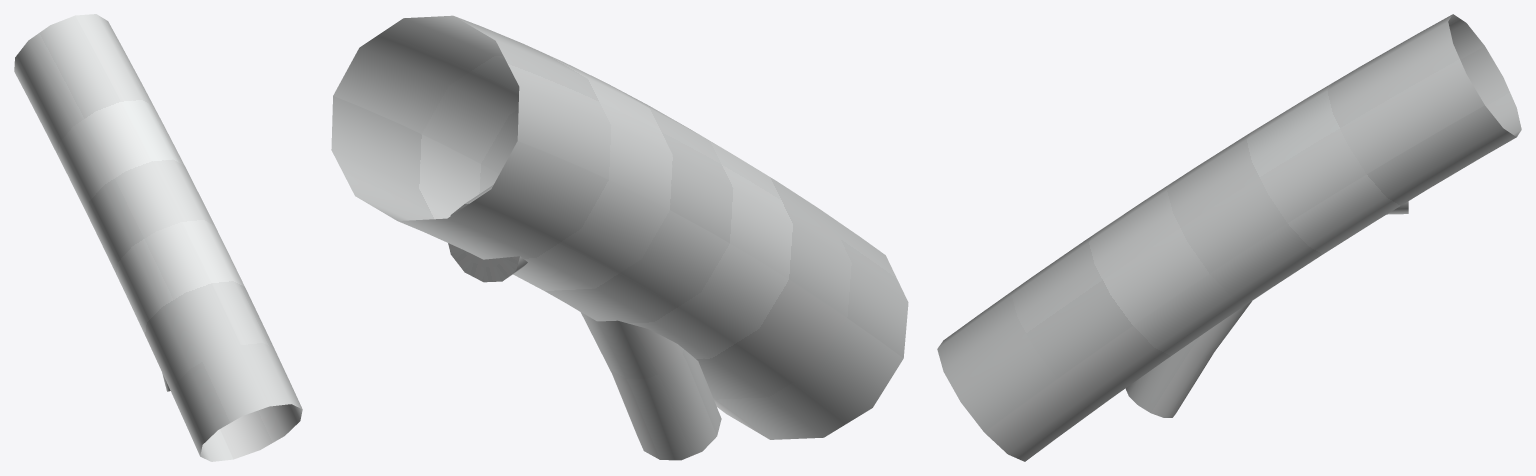
The model's file is luminairearm_anaheim8ft_c1.obj.
3 renders of one model, left to right at view 1: azimuth 30°, elevation 25°; view 2: azimuth 150°, elevation 25°; view 3: azimuth 270°, elevation 25°, orthographic. The views are drawn at different scales.
Visible parts, largest first — view 1: luminairearm_anaheim8ft_c1; view 2: luminairearm_anaheim8ft_c1; view 3: luminairearm_anaheim8ft_c1.
Part boxes in pixels (x1=…): luminairearm_anaheim8ft_c1: x1=14, y1=14, x2=302, y2=461; luminairearm_anaheim8ft_c1: x1=331, y1=15, x2=908, y2=460; luminairearm_anaheim8ft_c1: x1=937, y1=14, x2=1521, y2=461.
Bounding box in the file's own units: 0.1942 × 0.6228 × 0.7643.
